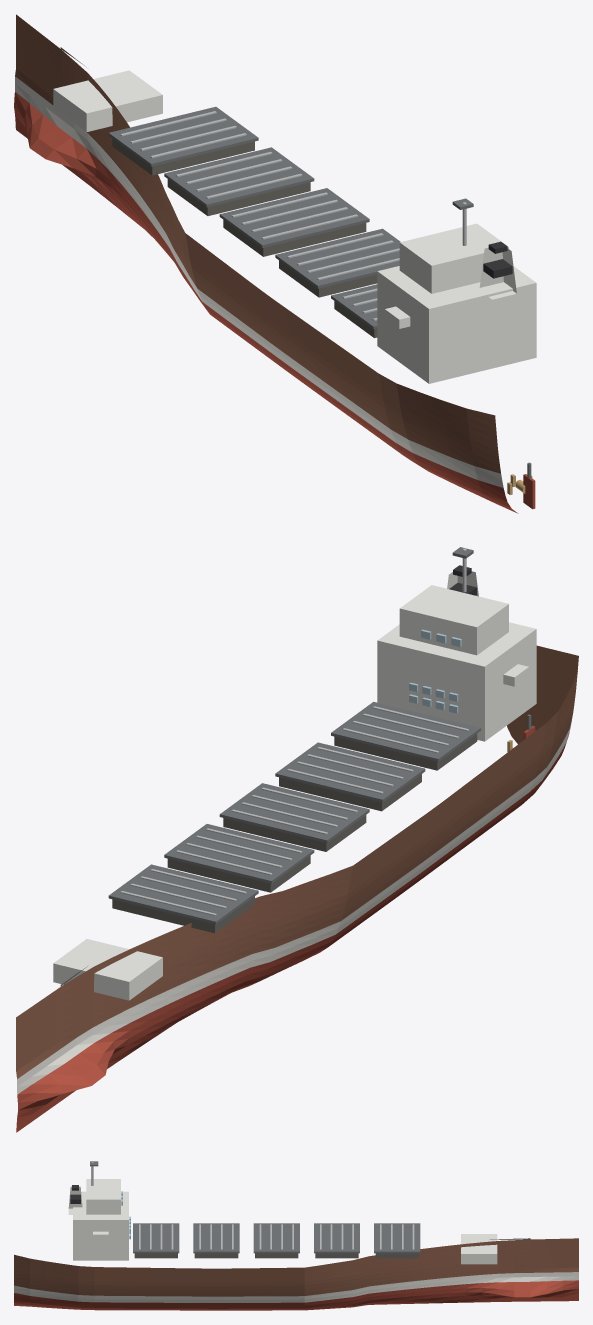
Rendered from bulk_lod1.glb.
The picture shows the model from 3 angles, top to bottom: view 1: azimuth 30°, elevation 25°; view 2: azimuth 150°, elevation 25°; view 3: azimuth 270°, elevation 25°; orthographic projection. The views are drawn at different scales.
Visible parts, largest first — view 1: ship; view 2: ship; view 3: ship.
Boxes of the visible parts, bbox=[...] form: ship: bbox=[14, 14, 536, 513]; ship: bbox=[16, 547, 578, 1132]; ship: bbox=[14, 1161, 578, 1310].
Bounding box in the file's own units: 0.749 × 1.12 × 4.03.
